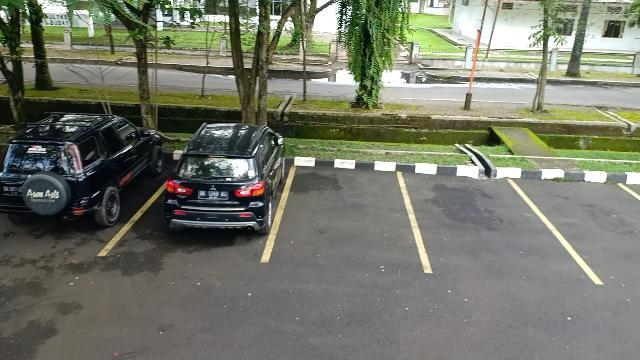empty: (412, 162, 554, 278), (280, 158, 408, 264), (546, 168, 640, 286)
occupied: (0, 134, 154, 256), (150, 138, 284, 262)
